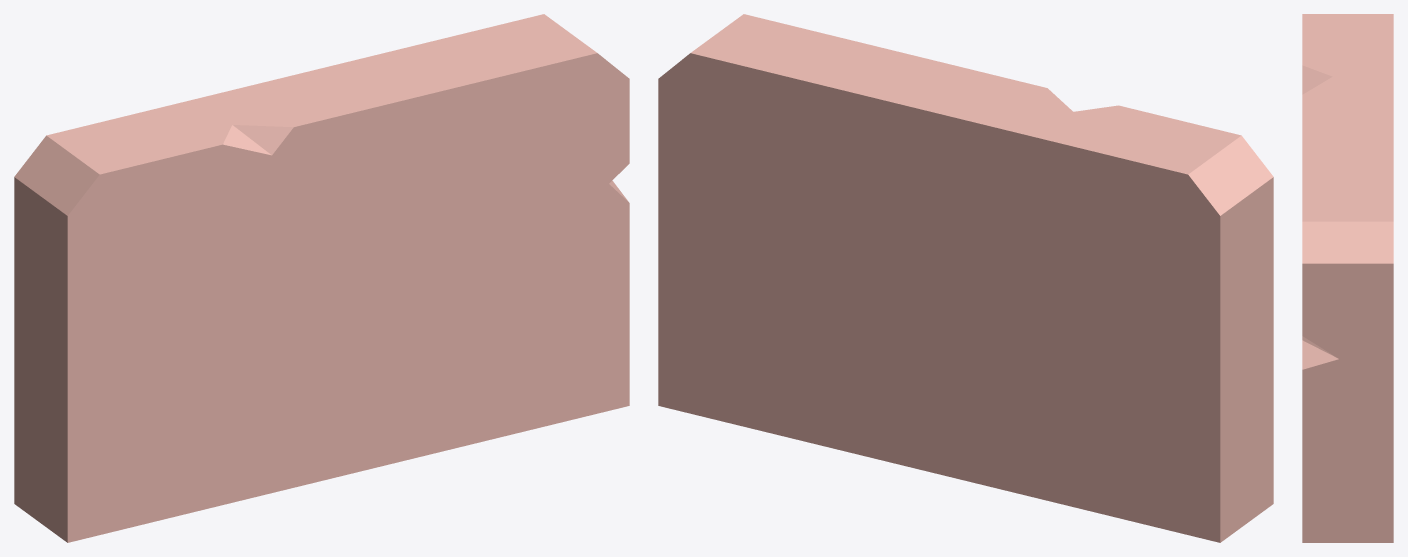
File: Mega_Asset_s_Pack_Cube_217.FBX
3 renders of one model, left to right at view 1: azimuth 30°, elevation 25°; view 2: azimuth 150°, elevation 25°; view 3: azimuth 270°, elevation 25°, orthographic. The views are drawn at different scales.
Parts seen in each view (by area): view 1: Mega_Asset_s_Pack_Cube_217; view 2: Mega_Asset_s_Pack_Cube_217; view 3: Mega_Asset_s_Pack_Cube_217.
Part boxes in pixels (x1,y1,x2,y2): Mega_Asset_s_Pack_Cube_217: (14,14,629,542); Mega_Asset_s_Pack_Cube_217: (658,14,1273,542); Mega_Asset_s_Pack_Cube_217: (1302,14,1393,542).
Size of what is drawn, in the model's own units: 212 by 34.85 by 130.
